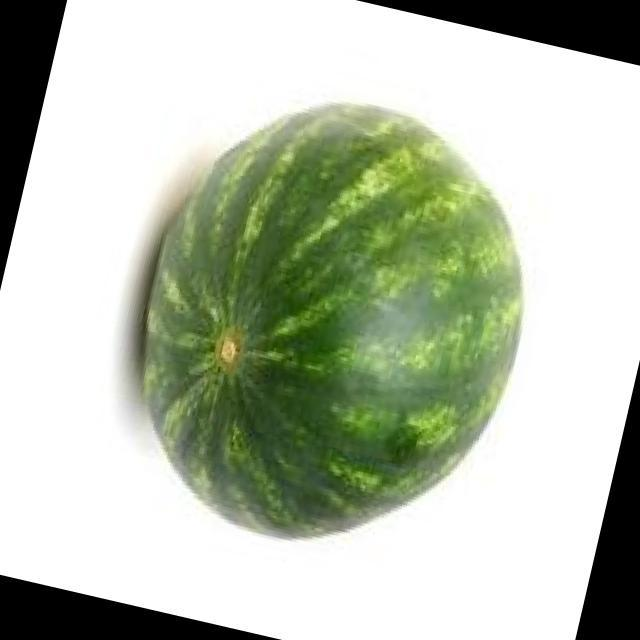watermelon: (132, 98, 528, 540)
